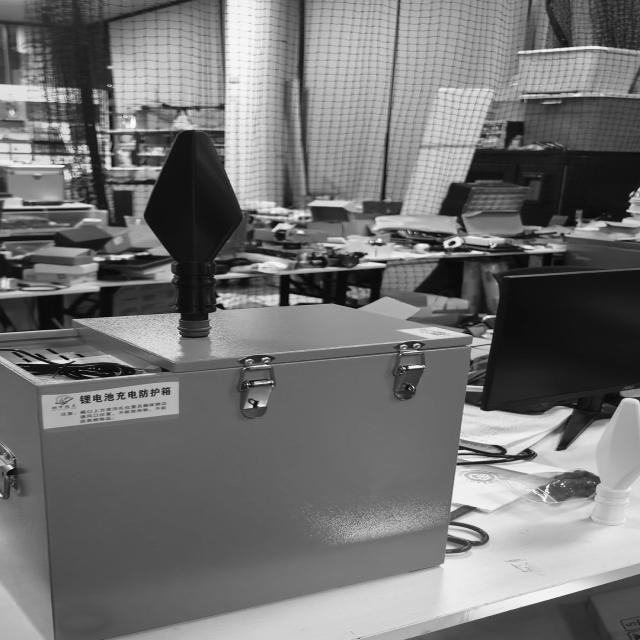base: (179, 318, 211, 336)
